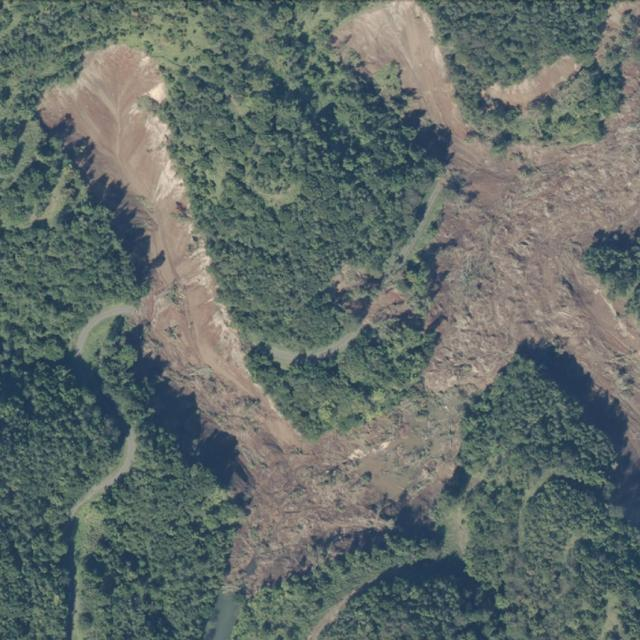landslide: (92, 1, 639, 593), (482, 55, 582, 109)
